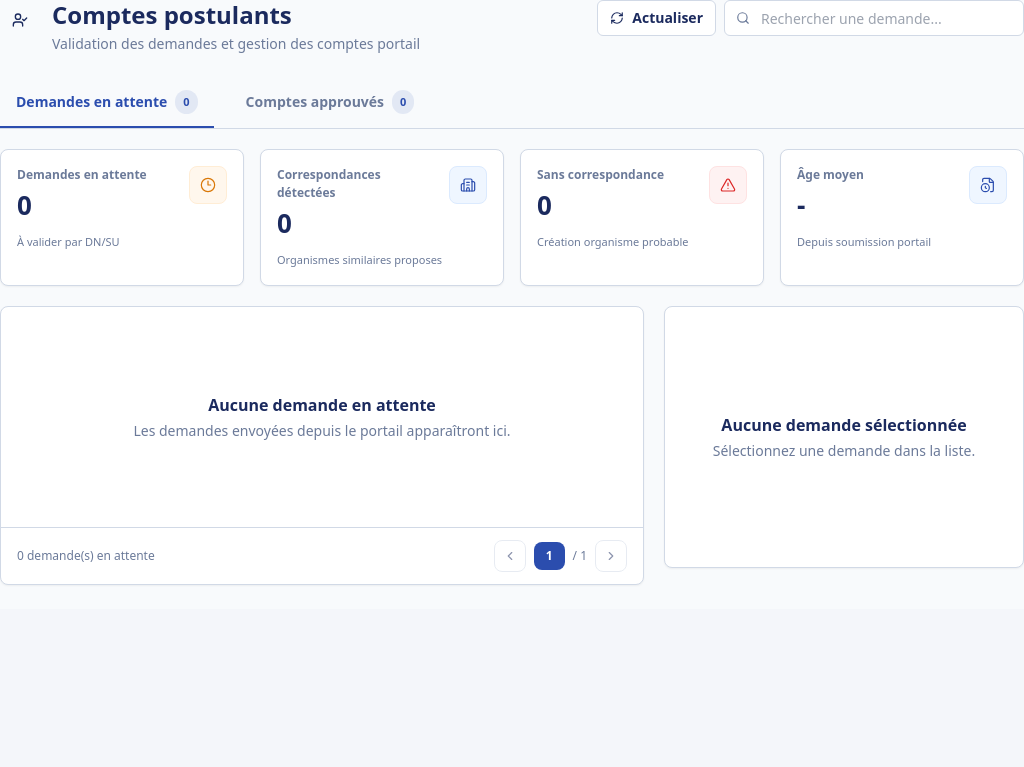
Test: <AccountRequestsPage> approved account edit › shows the account information section with an enabled « Modifier »
The image size is (1024, 767).
Step 1. Click the button "Comptes approuvés 0" → (330, 103), box [230,78,430,128]
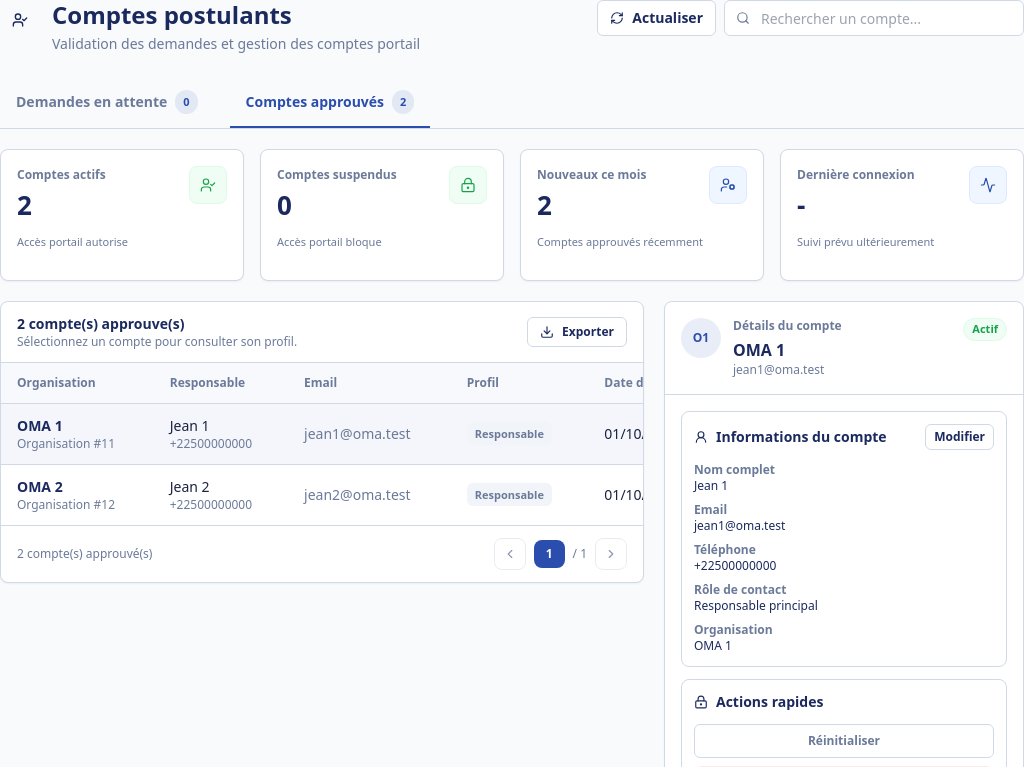
Result: the button "Modifier" is enabled at [925,424,994,450]
Result: the heading "Informations du compte" is shown at [694,427,887,447]
Result: the button "Réinitialiser" is disabled at [694,724,994,758]
